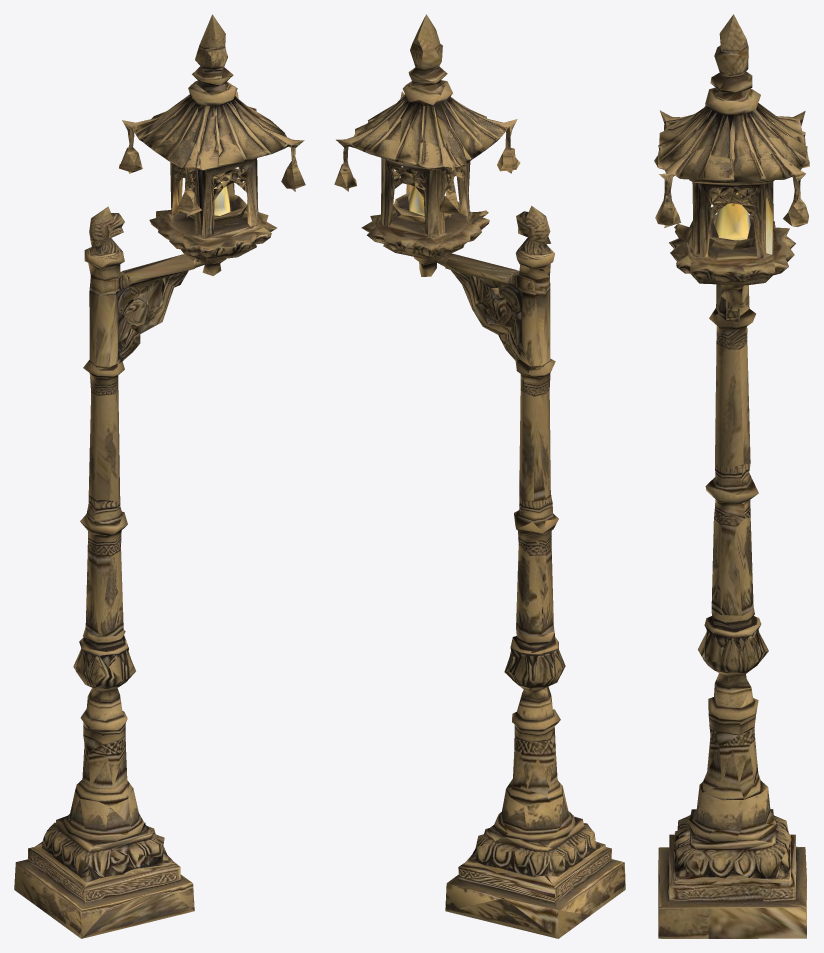
File: lamp_post.glb
The picture shows the model from 3 angles, left to right: view 1: azimuth 30°, elevation 25°; view 2: azimuth 150°, elevation 25°; view 3: azimuth 270°, elevation 25°; orthographic projection. The views are drawn at different scales.
Parts seen in each view (by area): view 1: lamp_post; view 2: lamp_post; view 3: lamp_post.
Part boxes in pixels (bbox=[...]): lamp_post: bbox=[14, 14, 305, 938]; lamp_post: bbox=[334, 14, 625, 938]; lamp_post: bbox=[654, 14, 809, 938].
Size of the model in its own units: 0.9423 by 3.4 by 0.5041.
1 material, 1 textured.
